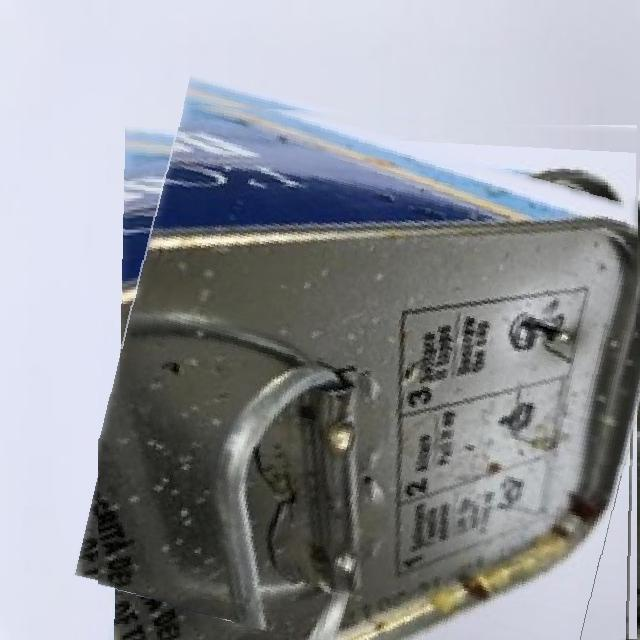recyclable: (98, 100, 640, 640)
